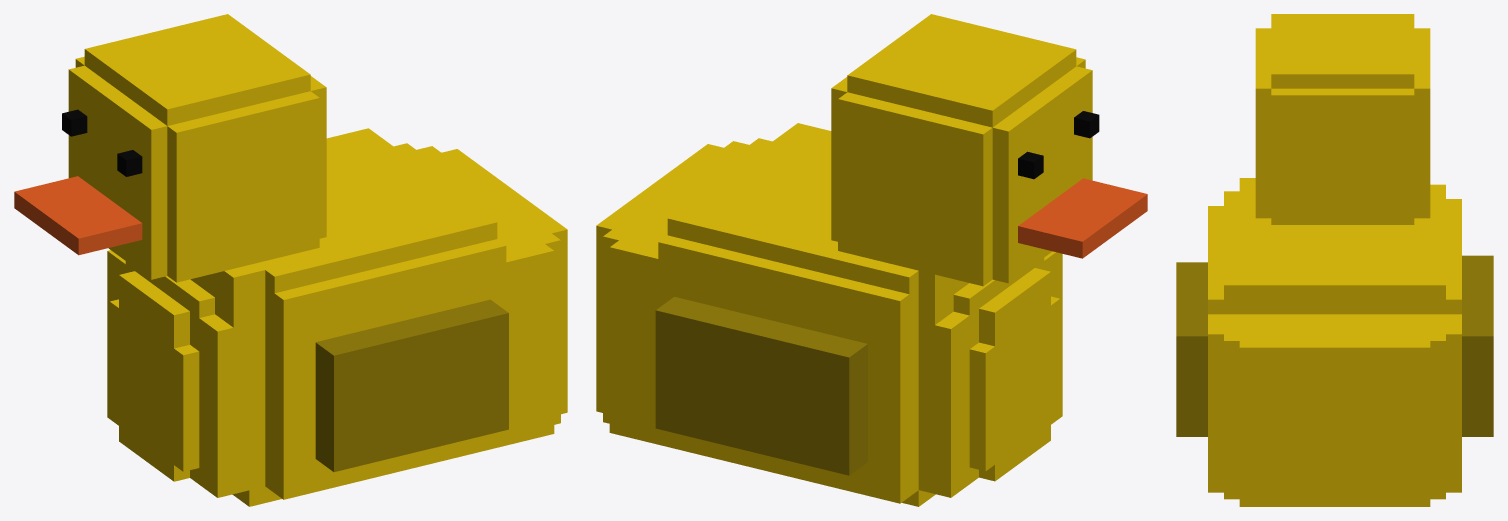
Rendered from Duck.fbx.
3 views of the same model, side by side, from view 1: azimuth 30°, elevation 25°; view 2: azimuth 150°, elevation 25°; view 3: azimuth 270°, elevation 25° (orthographic). The views are drawn at different scales.
Visible parts, largest first — view 1: Duck; view 2: Duck; view 3: Duck.
Part boxes in pixels (x1,y1,x2,y2): Duck: (14, 14, 567, 506); Duck: (596, 14, 1147, 506); Duck: (1176, 14, 1493, 506).
Size of the model in its own units: 290 by 240 by 200.
